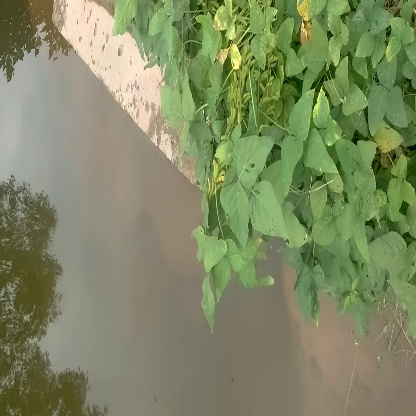leaf: (189, 227, 239, 326)
